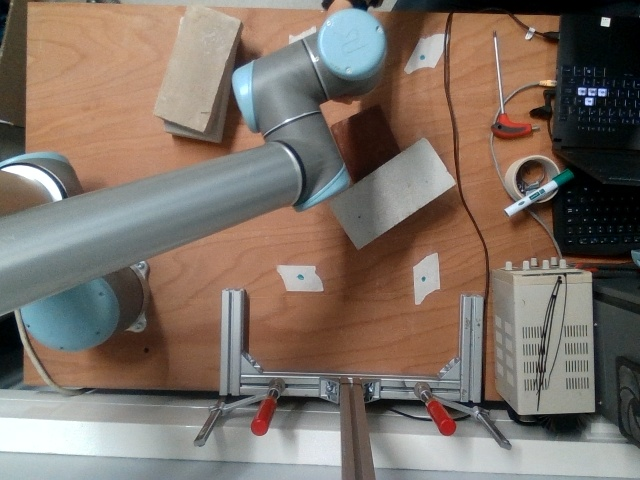brick: (150, 1, 240, 128)
